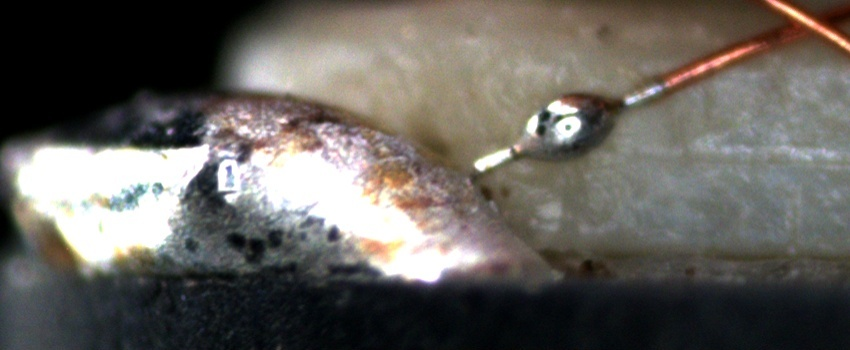CL: (755, 4, 846, 53)
DL: (605, 122, 850, 180), (525, 50, 850, 93)
TB: (517, 82, 618, 166)
TS: (469, 80, 664, 181)
TTCW: (458, 53, 721, 179)
